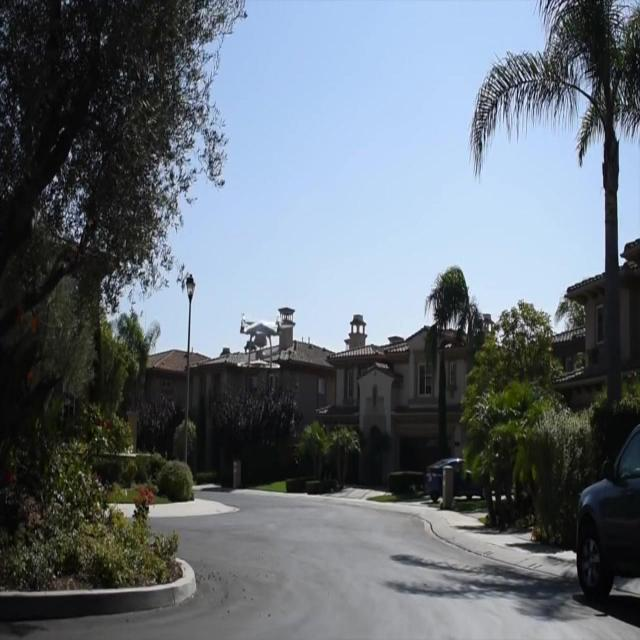drone: (237, 311, 284, 374)
